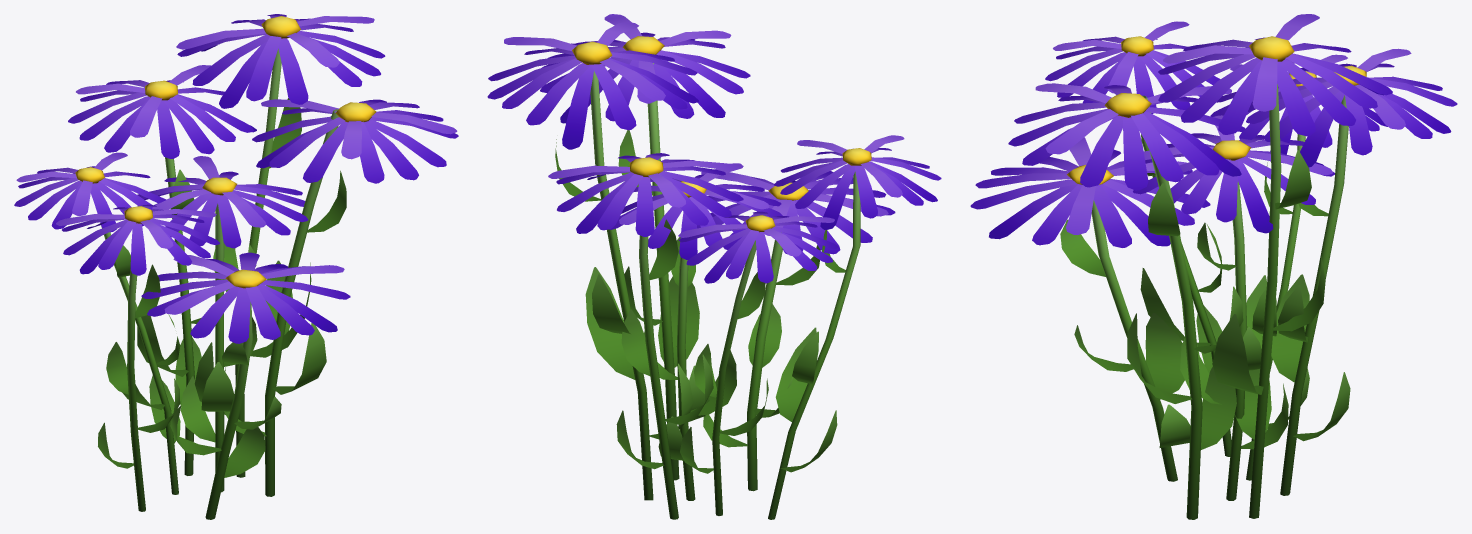
The model's file is Aster.fbx.
3 renders of one model, left to right at view 1: azimuth 30°, elevation 25°; view 2: azimuth 150°, elevation 25°; view 3: azimuth 270°, elevation 25°, orthographic. The views are drawn at different scales.
Parts seen in each view (by area): view 1: 03_Aster; view 2: 03_Aster; view 3: 03_Aster.
Part boxes in pixels (<box>): 03_Aster: <box>14,14,458,519</box>; 03_Aster: <box>487,14,941,519</box>; 03_Aster: <box>970,14,1457,519</box>.
Bounding box in the file's own units: 94.02 × 106 × 92.59.
